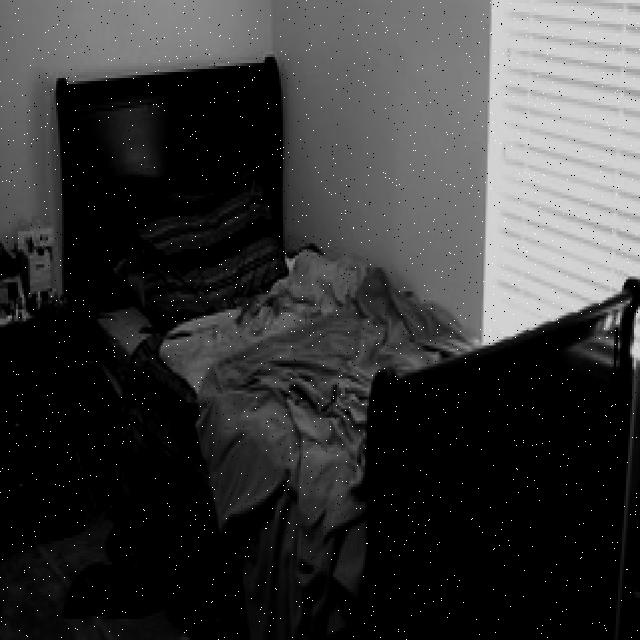bed: (77, 185, 502, 510)
